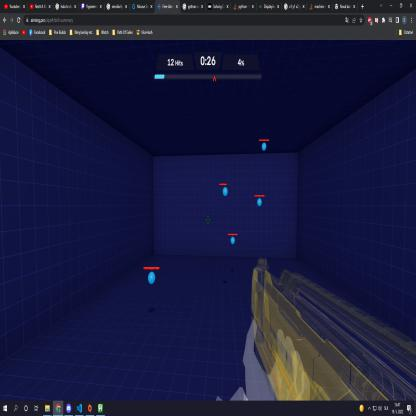sphere: (148, 272, 156, 286), (222, 186, 229, 198), (256, 198, 263, 208), (262, 142, 268, 152), (230, 236, 236, 245)
